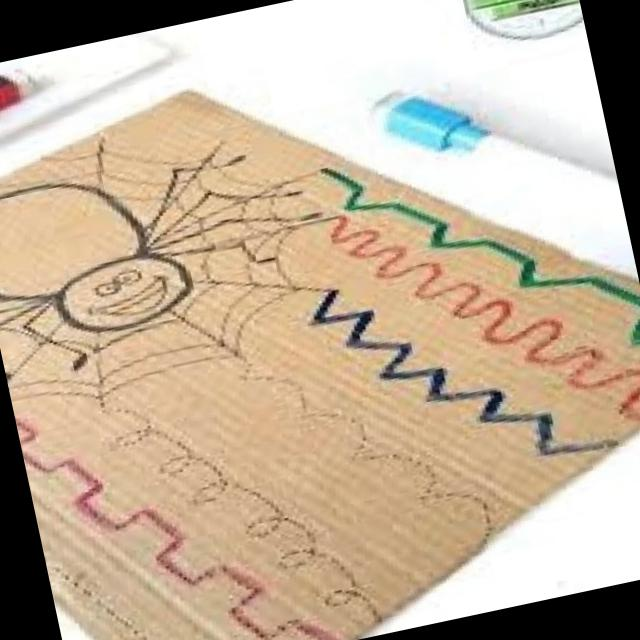cardboard paper: (0, 91, 640, 640)
